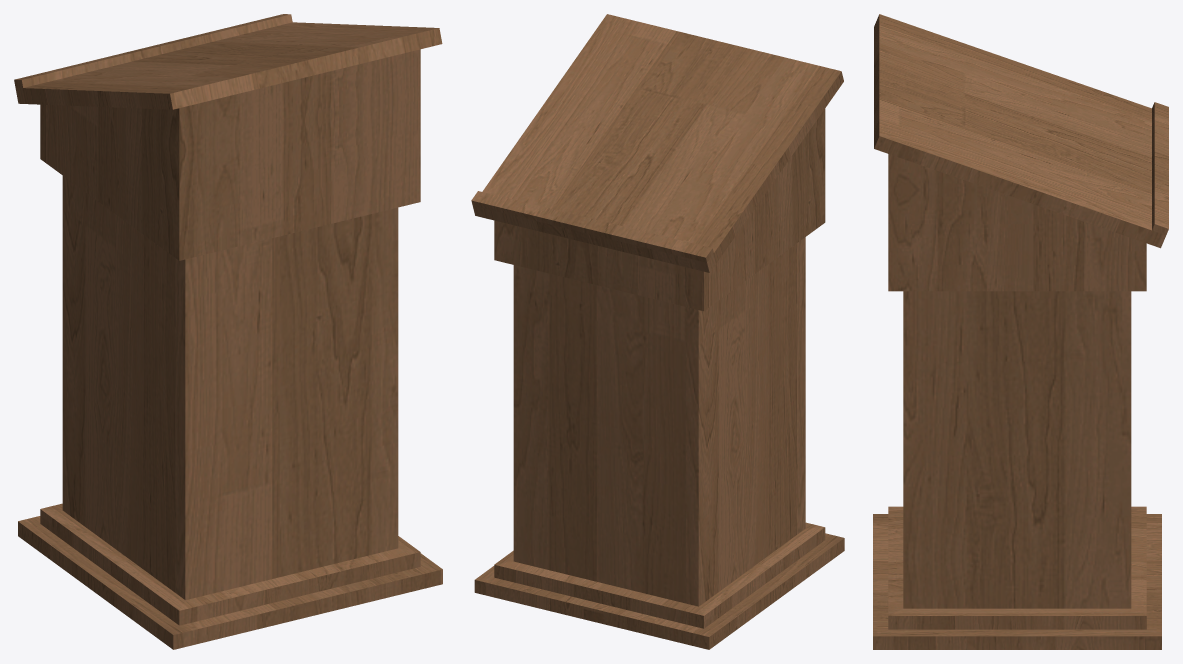
File: podium.glb
The picture shows the model from 3 angles, left to right: view 1: azimuth 30°, elevation 25°; view 2: azimuth 150°, elevation 25°; view 3: azimuth 270°, elevation 25°; orthographic projection. The views are drawn at different scales.
Visible parts, largest first — view 1: Podium; view 2: Podium; view 3: Podium.
Part boxes in pixels (<box>): Podium: <box>14,14,442,649</box>; Podium: <box>471,14,844,649</box>; Podium: <box>873,14,1168,649</box>.
Bounding box in the file's own units: 38 × 74.6 × 38.94.
1 material, 1 textured.
